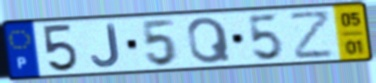5: (138, 17, 182, 68), (41, 22, 80, 74), (246, 12, 285, 62)
J: (90, 22, 123, 69)
Q: (185, 15, 234, 66)
Z: (287, 8, 336, 61)
